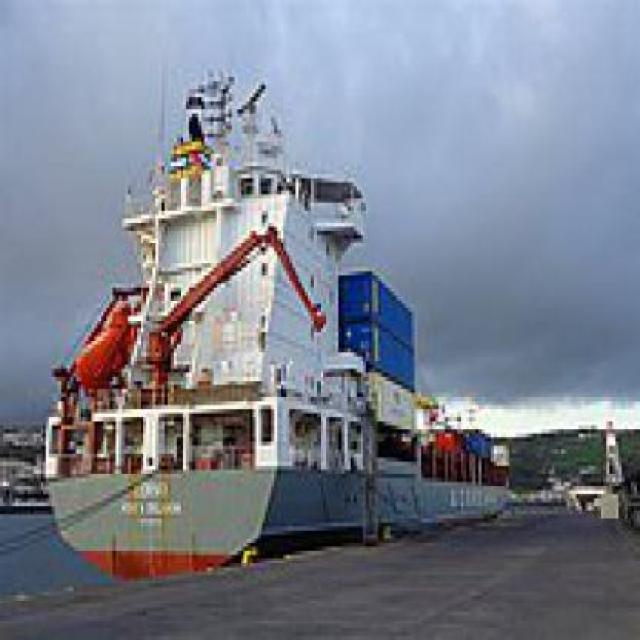container: (35, 61, 522, 589)
